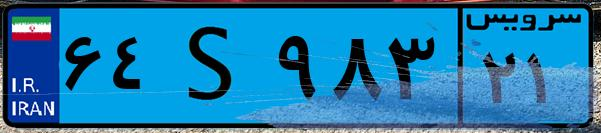1: (525, 38, 570, 115)
2: (475, 38, 525, 113)
3: (385, 28, 445, 110)
4: (110, 28, 158, 98)
6: (57, 26, 110, 100)
8: (330, 28, 385, 110)
9: (270, 28, 330, 110)
S: (158, 12, 270, 120)
